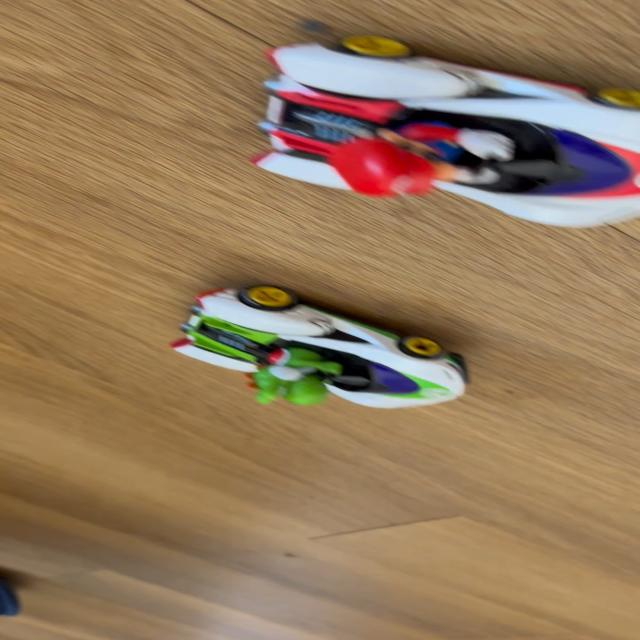mario: (239, 29, 640, 240)
yoshi: (162, 276, 489, 422)
